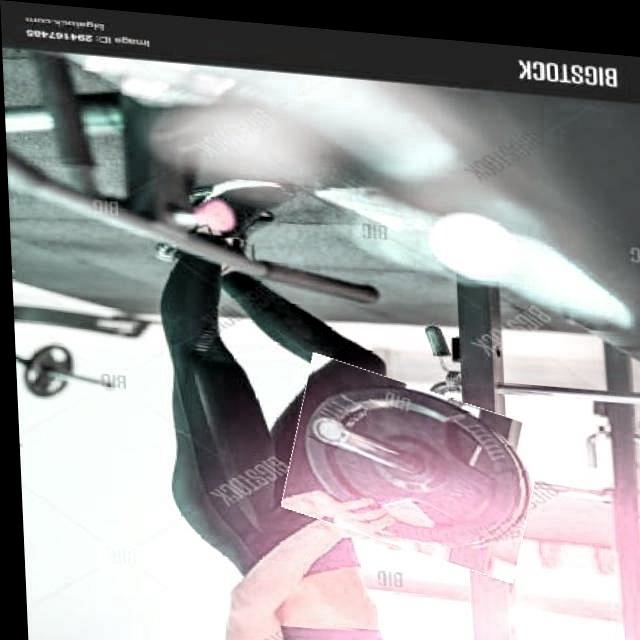barbell: (281, 359, 539, 564)
